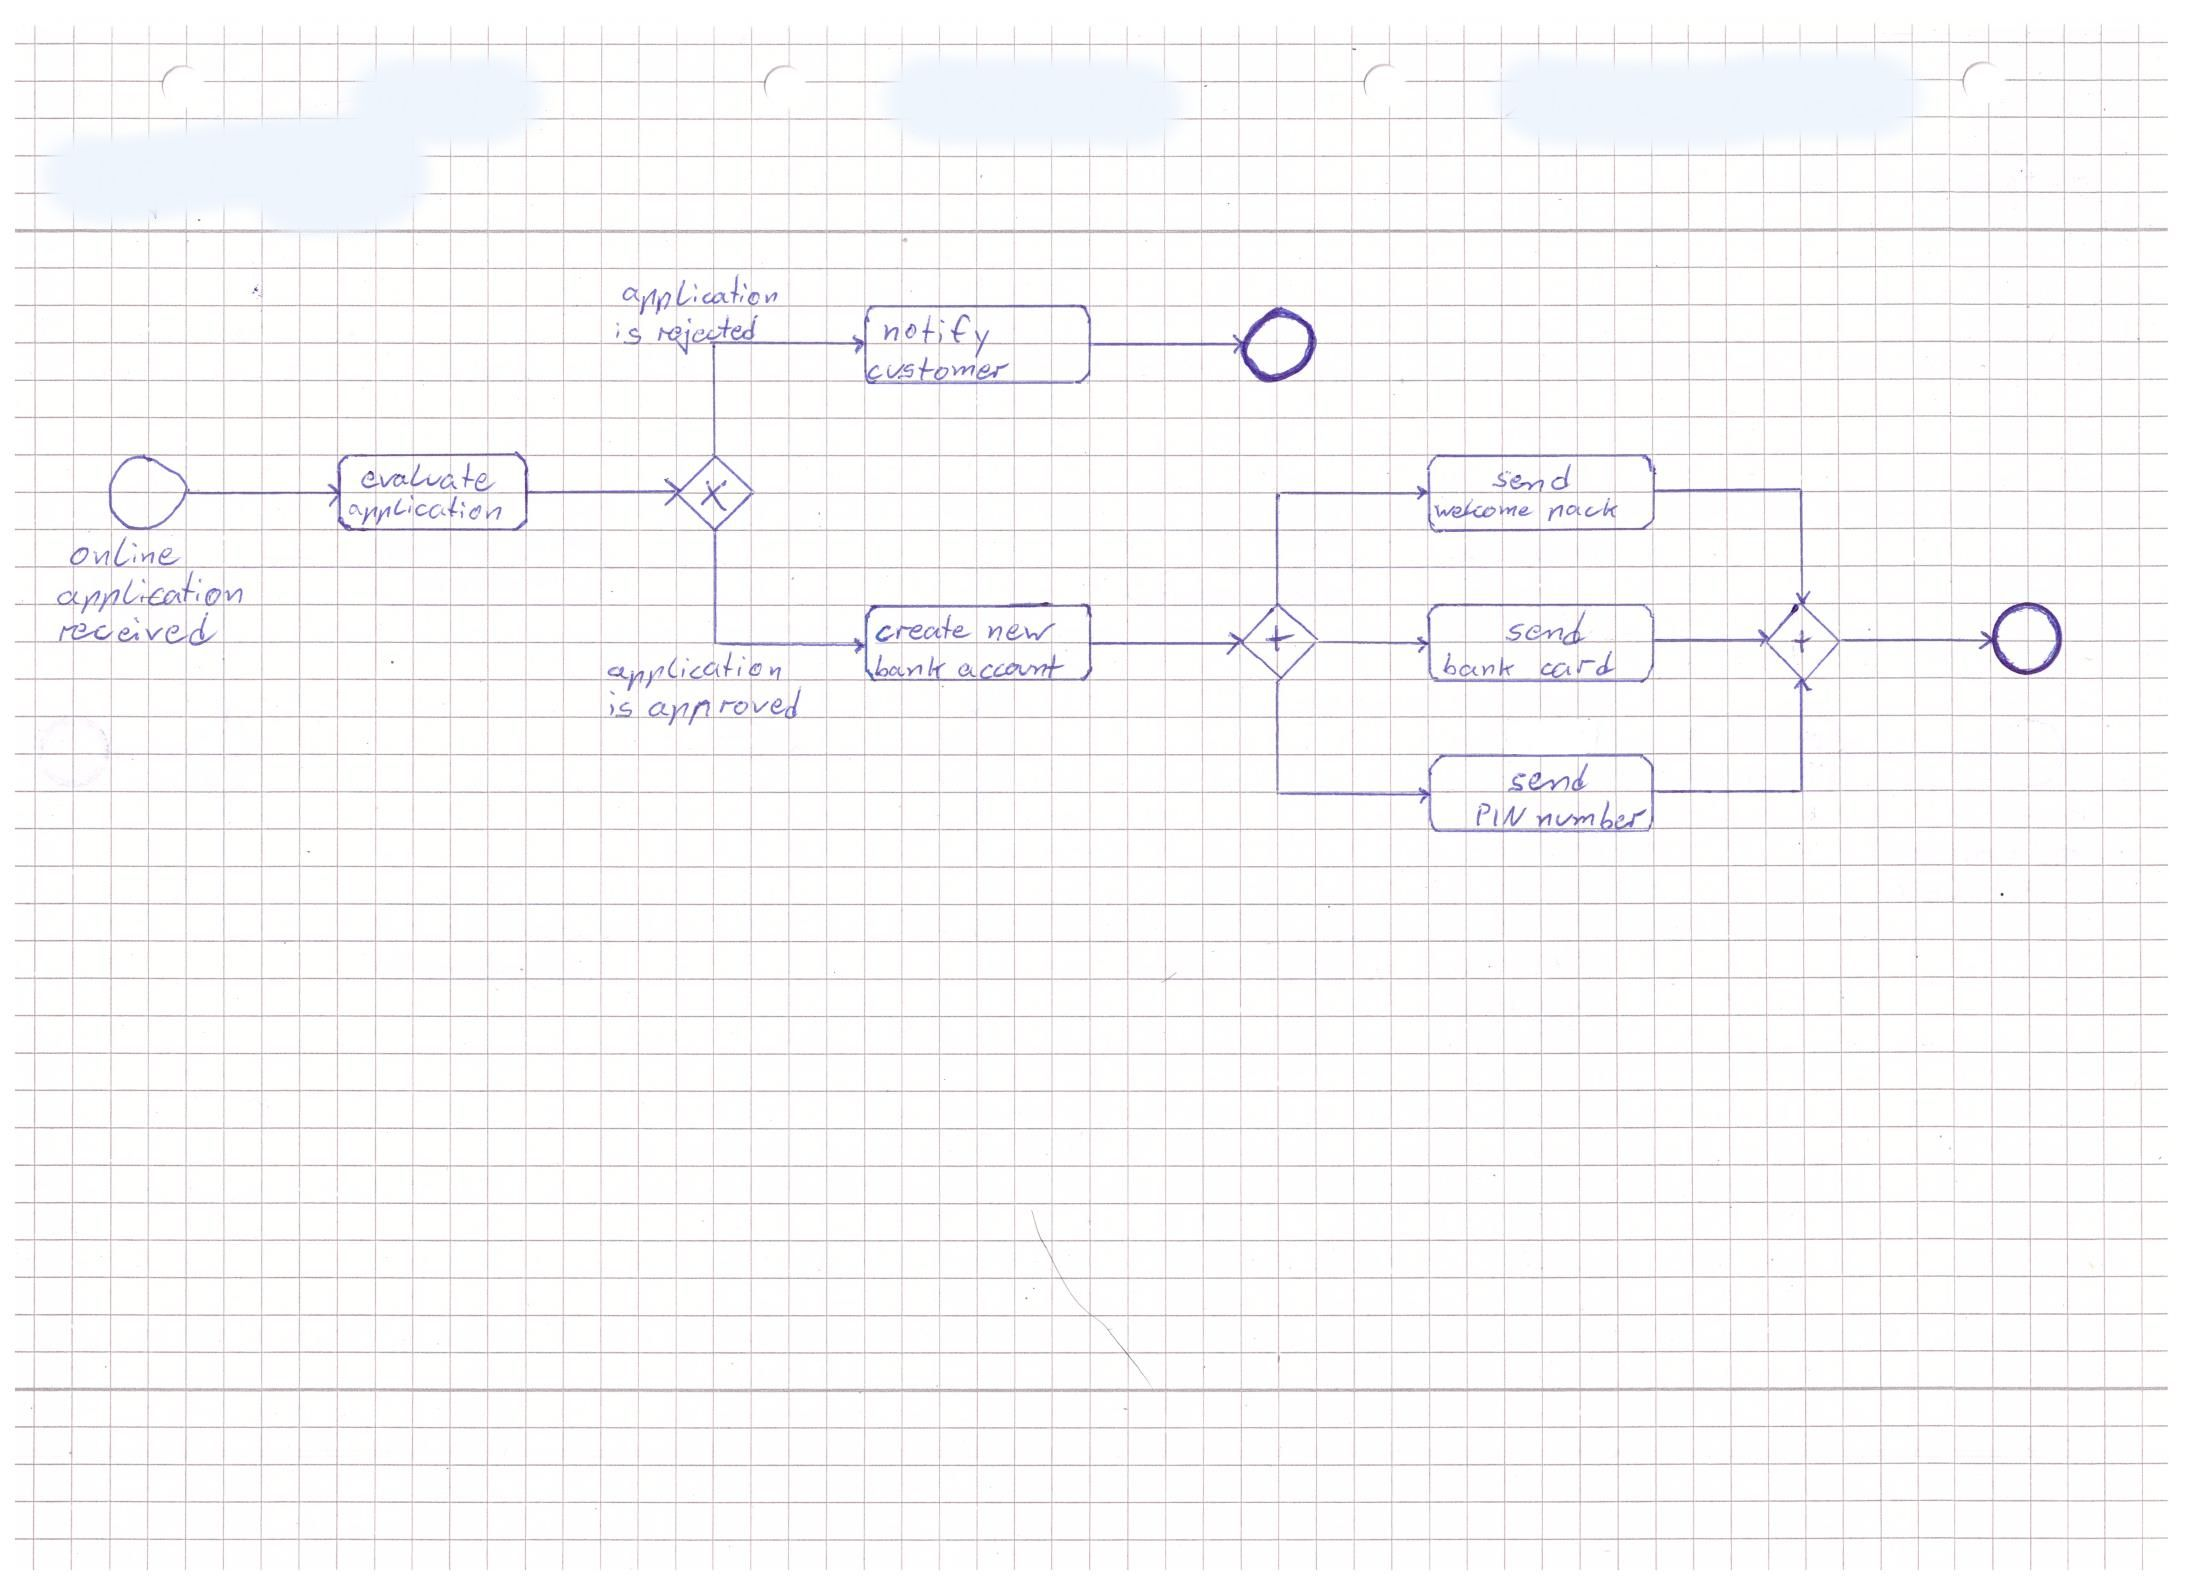PIN: (1471, 799, 1530, 826)
account: (957, 653, 1064, 682)
application: (51, 570, 251, 614), (604, 648, 789, 694), (617, 275, 785, 312), (346, 494, 509, 529)
approved: (641, 686, 806, 731)
bank: (870, 653, 953, 682), (1440, 652, 1518, 679)
card: (1535, 648, 1622, 680)
create: (870, 614, 975, 648)
customer: (865, 353, 1014, 384)
evaluate: (356, 462, 499, 497)
is: (599, 689, 641, 726), (609, 317, 645, 353)
new: (982, 614, 1057, 648)
notify: (879, 311, 997, 360)
number: (1534, 796, 1649, 832)
online: (66, 535, 178, 574)
pack: (1544, 497, 1625, 528)
received: (54, 613, 215, 650)
rejected: (650, 316, 762, 353)
send: (1501, 609, 1593, 653), (1506, 760, 1591, 798), (1489, 462, 1578, 497)
welcome: (1432, 496, 1535, 523)
